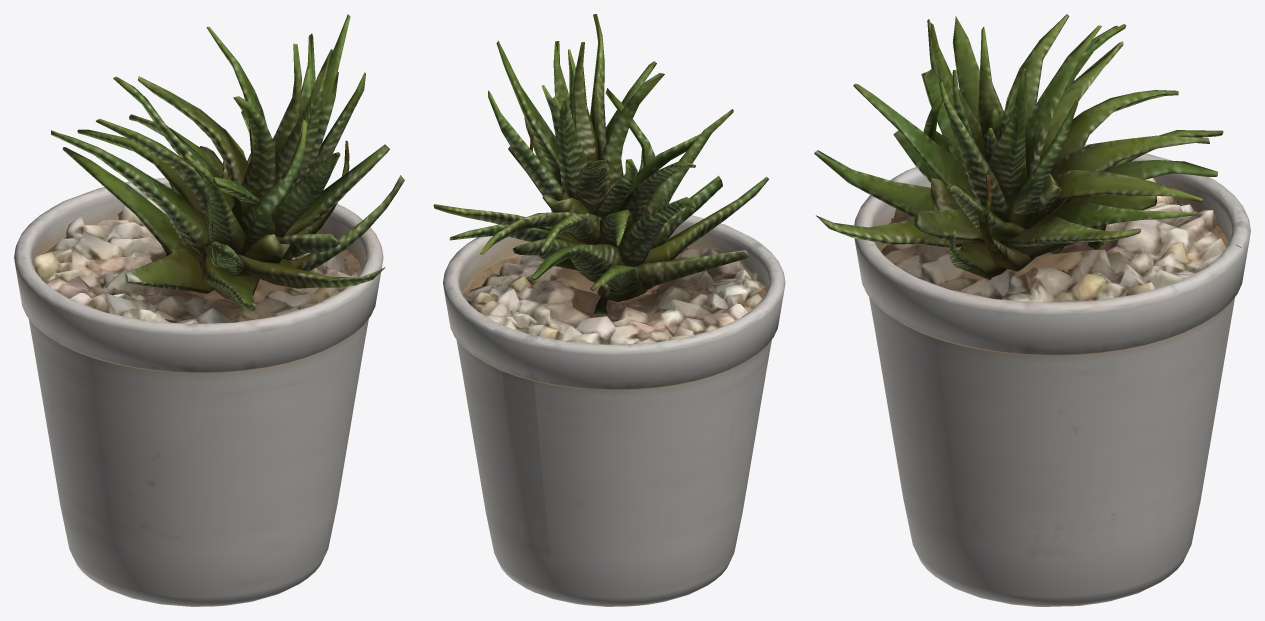
The model's file is pianta-piccola.glb.
3 renders of one model, left to right at view 1: azimuth 30°, elevation 25°; view 2: azimuth 150°, elevation 25°; view 3: azimuth 270°, elevation 25°, orthographic. The views are drawn at different scales.
Parts seen in each view (by area): view 1: potted_plant_04_pot, potted_plant_04_plant, potted_plant_04_ground, potted_plant_04_dirt; view 2: potted_plant_04_pot, potted_plant_04_plant, potted_plant_04_ground, potted_plant_04_dirt; view 3: potted_plant_04_pot, potted_plant_04_plant, potted_plant_04_ground, potted_plant_04_dirt.
Part boxes in pixels (left/top/right/bottom): potted_plant_04_pot: left=14, top=177, right=383, bottom=606; potted_plant_04_plant: left=51, top=14, right=404, bottom=312; potted_plant_04_ground: left=34, top=196, right=358, bottom=323; potted_plant_04_dirt: left=34, top=219, right=361, bottom=305; potted_plant_04_pot: left=443, top=215, right=785, bottom=606; potted_plant_04_plant: left=433, top=14, right=768, bottom=314; potted_plant_04_ground: left=462, top=247, right=766, bottom=344; potted_plant_04_dirt: left=463, top=247, right=766, bottom=306; potted_plant_04_pot: left=854, top=144, right=1250, bottom=606; potted_plant_04_plant: left=814, top=14, right=1223, bottom=279; potted_plant_04_ground: left=881, top=177, right=1225, bottom=302; potted_plant_04_dirt: left=875, top=200, right=1236, bottom=279.
Bounding box in the file's own units: 0.168 × 0.2673 × 0.1846.
Materials: 1 (1 with a texture image).
